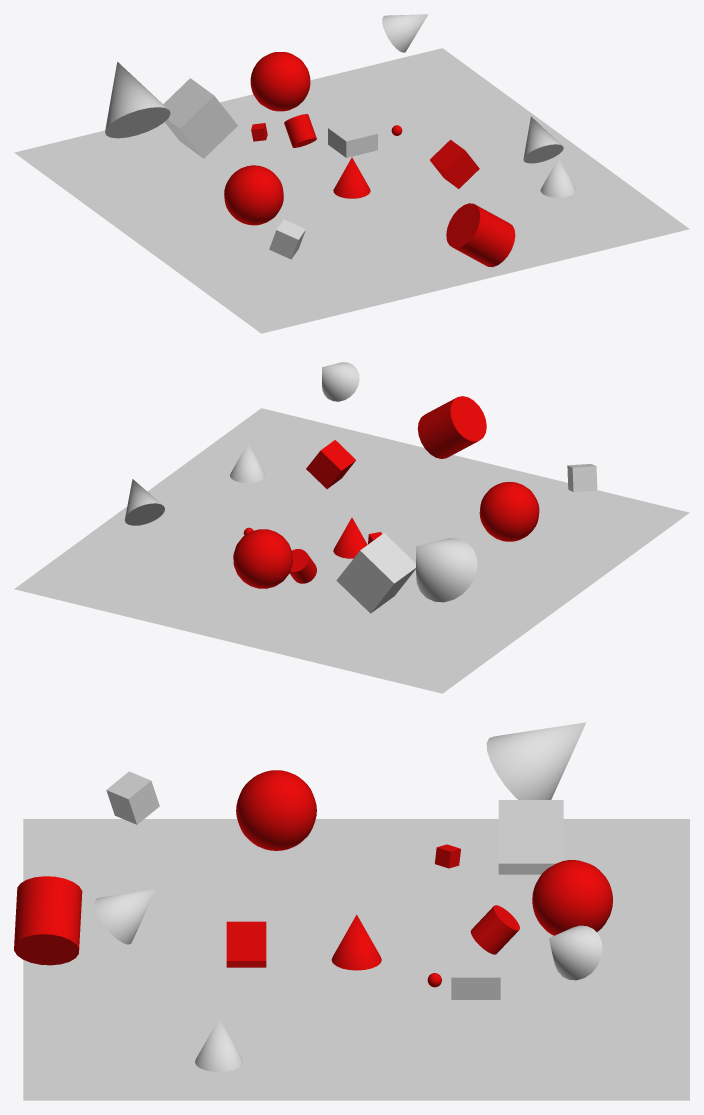
The model's file is simple_FBX.fbx.
3 views of the same model, one above another, from view 1: azimuth 30°, elevation 25°; view 2: azimuth 150°, elevation 25°; view 3: azimuth 270°, elevation 25° (orthographic). The views are drawn at different scales.
Visible parts, largest first — view 1: pPlane1, pCube5, pCylinder2, pCone5, pSphere2, pSphere4, pCube3, pCube2, pCone4, pCone1, pCube4, pCone2 (+2 smaller); view 2: pPlane1, pCube5, pCone5, pCylinder2, pSphere2, pSphere4, pCube2, pCone1, pCone4, pCone7, pCube4, pCone2 (+1 smaller); view 3: pPlane1, pCylinder2, pSphere2, pCone5, pSphere4, pCube5, pCone4, pCube3, pCone1, pCube2, pCube4, pCone2 (+2 smaller).
Boxes of the visible parts, x1,y1,x2,y2 form: pPlane1: [14, 48, 689, 333]; pCube5: [163, 78, 237, 158]; pCylinder2: [446, 203, 515, 267]; pCone5: [105, 62, 170, 138]; pSphere2: [224, 165, 283, 225]; pSphere4: [250, 52, 310, 111]; pCube3: [328, 120, 377, 157]; pCube2: [430, 139, 479, 188]; pCone4: [382, 14, 428, 52]; pCone1: [523, 116, 563, 163]; pCube4: [269, 219, 305, 259]; pCone2: [333, 157, 370, 198]; pPlane1: [14, 408, 689, 693]; pCube5: [336, 533, 415, 613]; pCone5: [416, 538, 477, 602]; pCylinder2: [417, 396, 486, 458]; pSphere2: [479, 482, 539, 541]; pSphere4: [233, 529, 292, 588]; pCube2: [306, 440, 355, 488]; pCone1: [322, 362, 359, 401]; pCone4: [124, 479, 164, 525]; pCone7: [230, 443, 265, 483]; pCube4: [567, 464, 597, 491]; pCone2: [333, 517, 367, 558]; pPlane1: [23, 819, 689, 1100]; pCylinder2: [14, 876, 82, 965]; pSphere2: [236, 770, 316, 850]; pCone5: [486, 722, 586, 799]; pSphere4: [532, 860, 612, 935]; pCube5: [498, 800, 563, 874]; pCone4: [549, 925, 602, 980]; pCube3: [451, 957, 500, 999]; pCone1: [95, 889, 155, 944]; pCube2: [226, 921, 266, 967]; pCube4: [106, 771, 159, 824]; pCone2: [331, 914, 381, 970].
Bounding box in the file's own units: 92.79 × 24.88 × 94.11.
